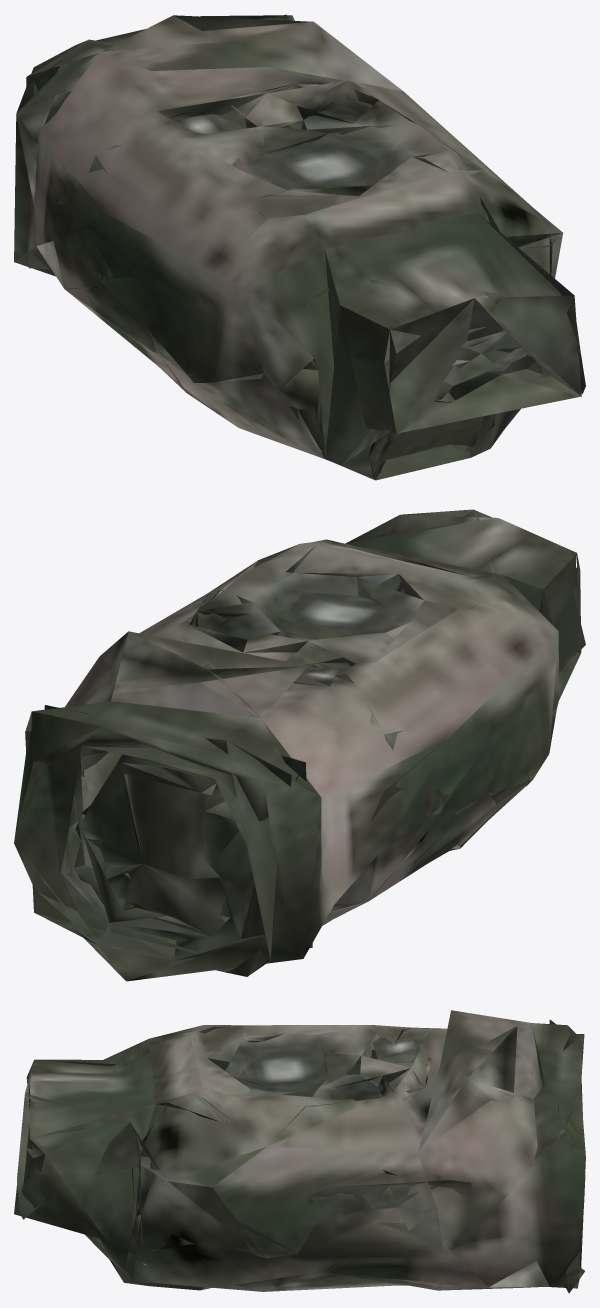
The model's file is power_plant_78830161_lod0m.glb.
3 views of the same model, one above another, from view 1: azimuth 30°, elevation 25°; view 2: azimuth 150°, elevation 25°; view 3: azimuth 270°, elevation 25° (orthographic). The views are drawn at different scales.
Bounding box in the file's own units: 7.83 × 6.57 × 13.91.
1 material, 1 textured.
